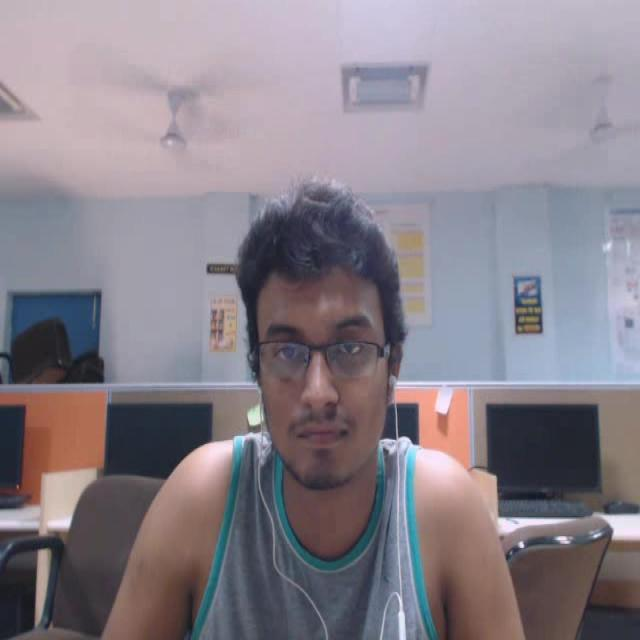Engaged: (219, 171, 435, 524)
